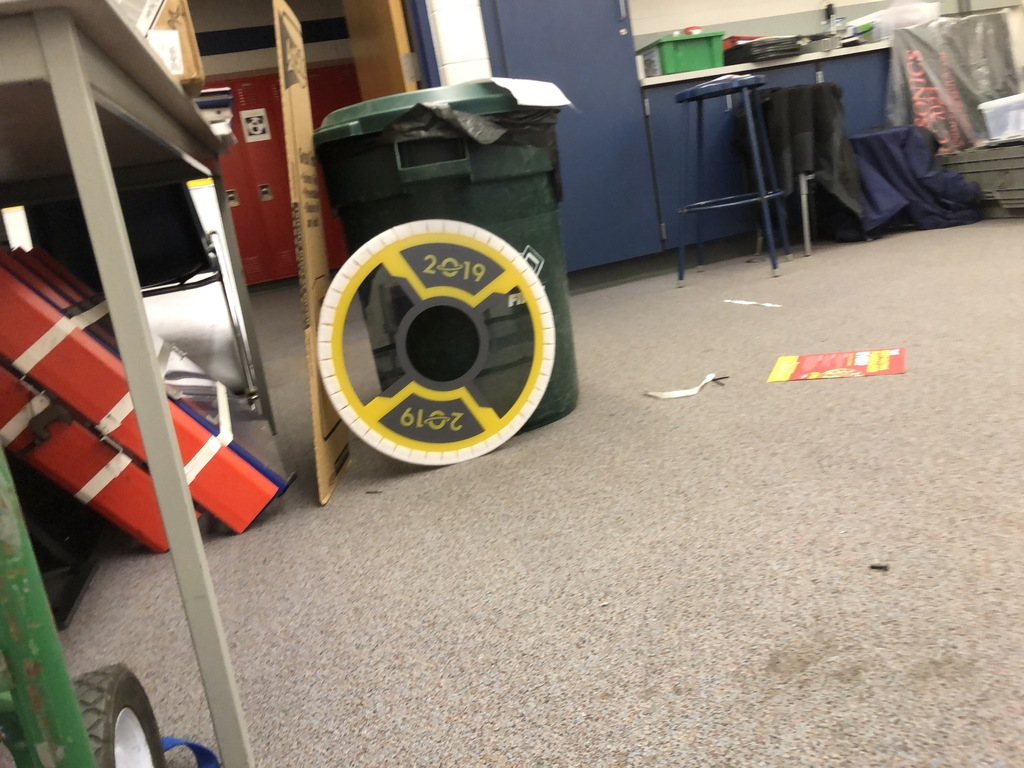hatch_panel: (305, 209, 569, 481)
